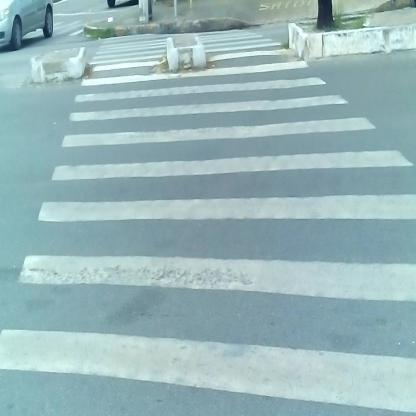crosswalk: (26, 85, 413, 416)
